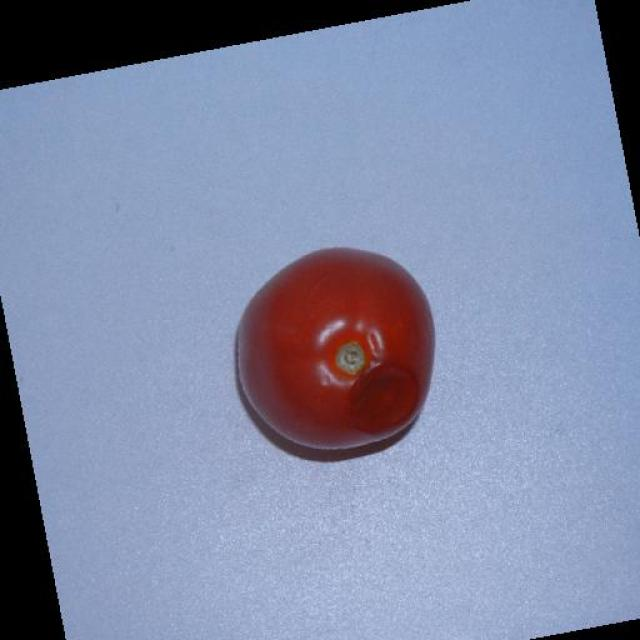Stale_tomato: (213, 230, 459, 460)
